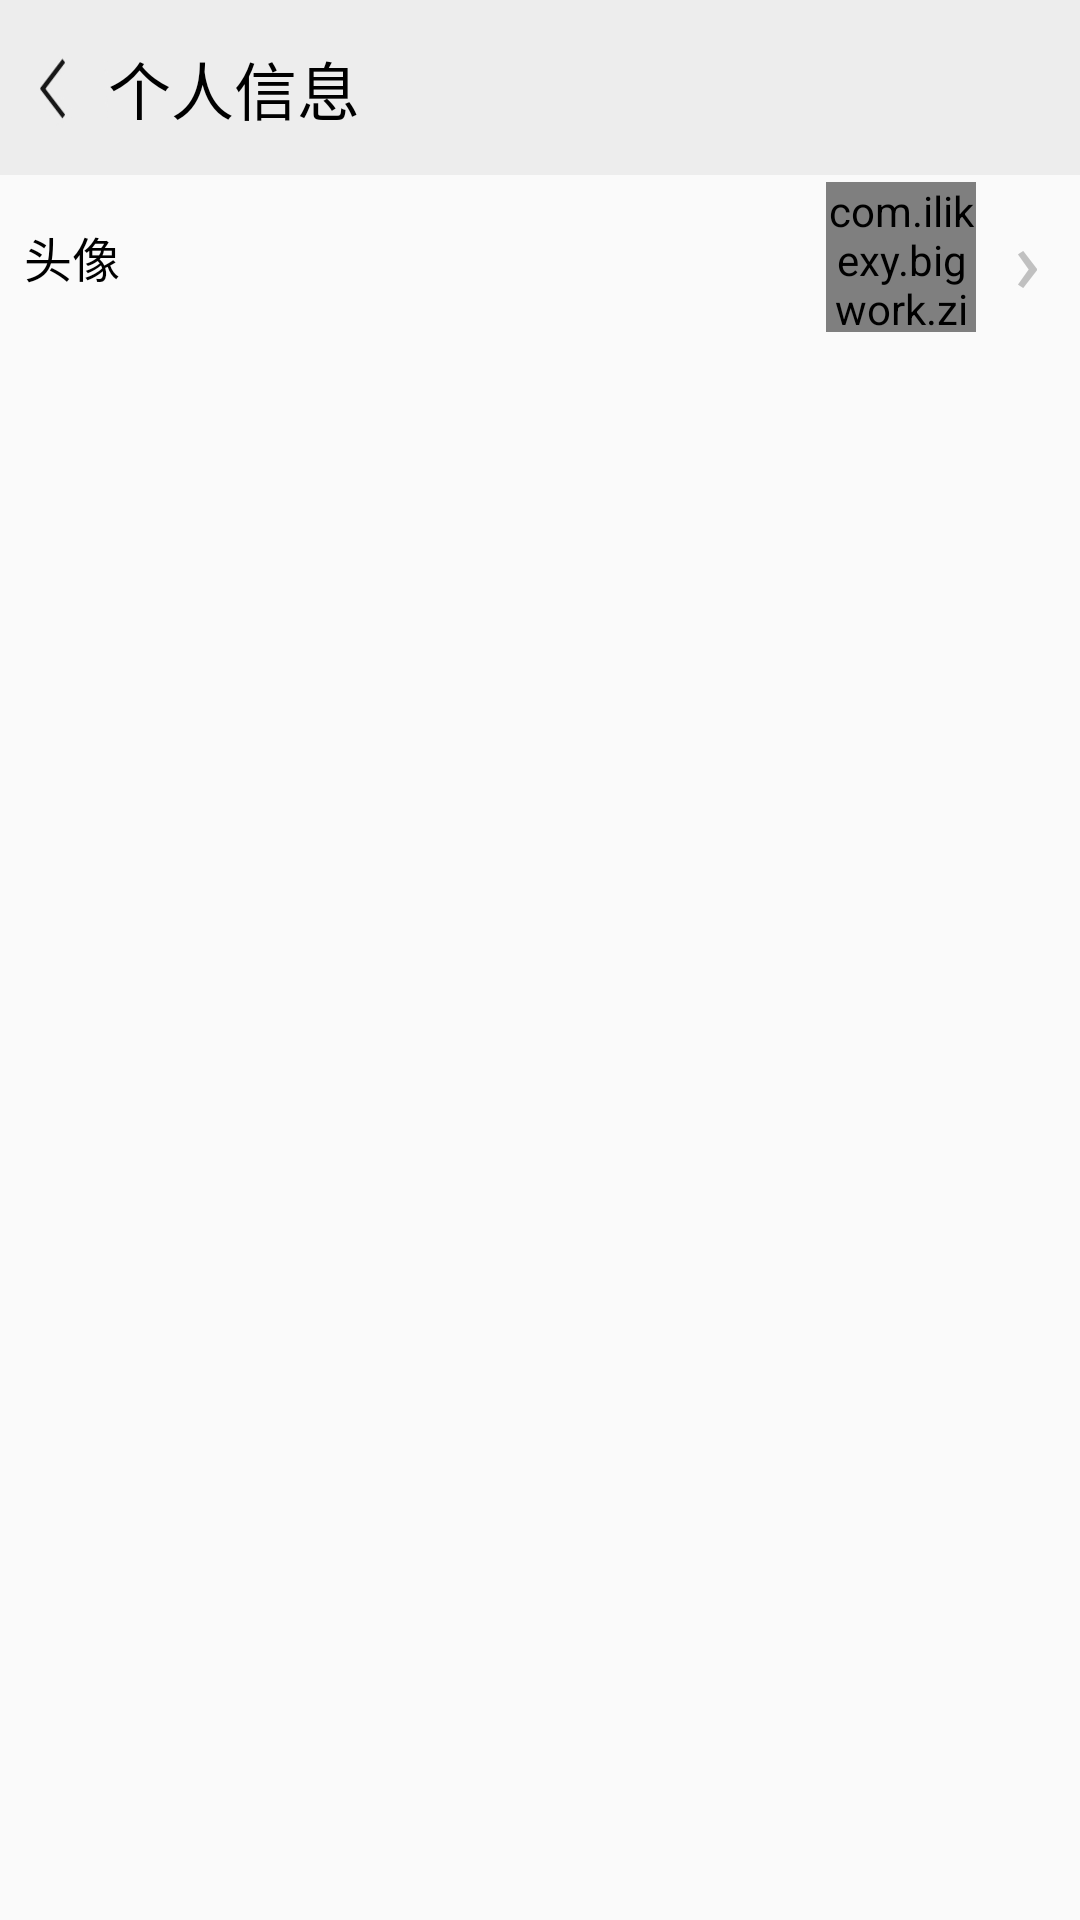

Locate icon controls on the screen. Image size 1080x1920, boxes as (x1, y1, x2, y2).
back: (40, 58, 65, 119)
